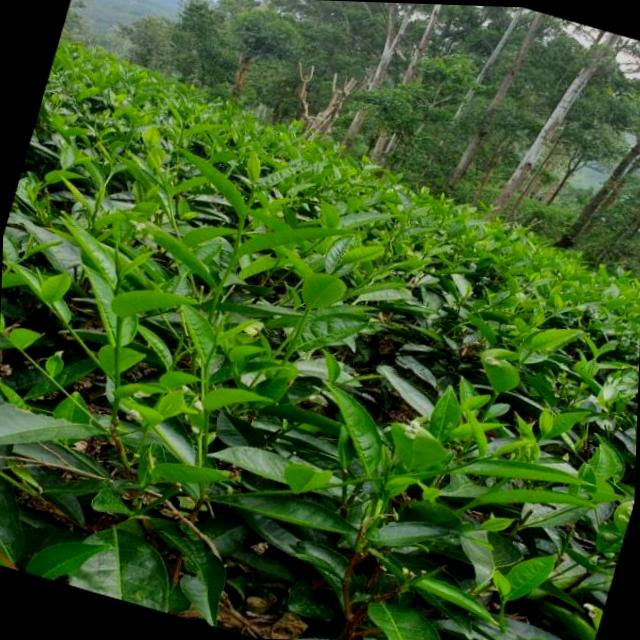Stem: (245, 194, 255, 209), (115, 277, 122, 292), (202, 365, 208, 381), (468, 457, 479, 464), (526, 350, 532, 357)
